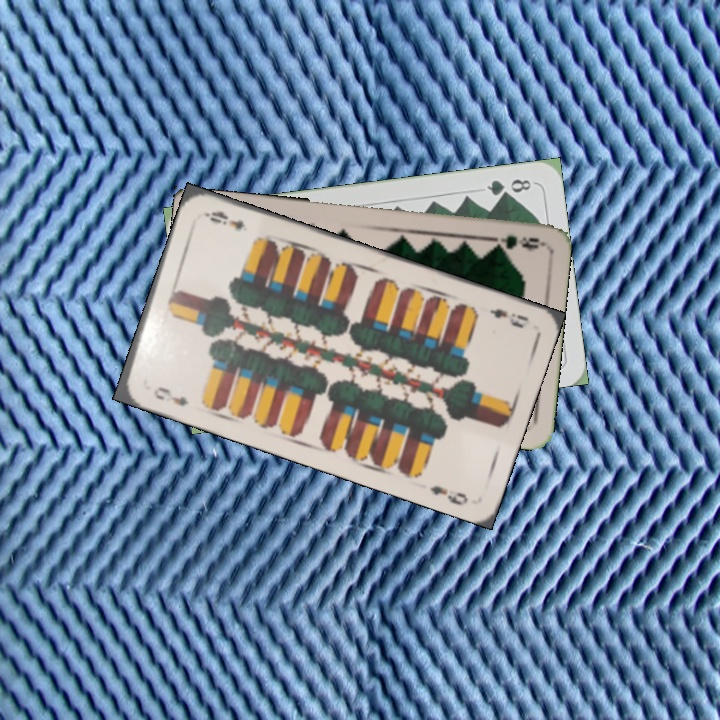E9: (485, 304, 531, 331), (149, 382, 192, 409)
G8: (483, 174, 534, 199)
G9: (486, 231, 545, 253)
